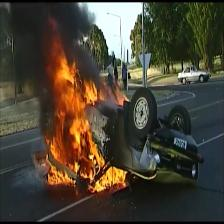fire: (39, 17, 130, 192)
